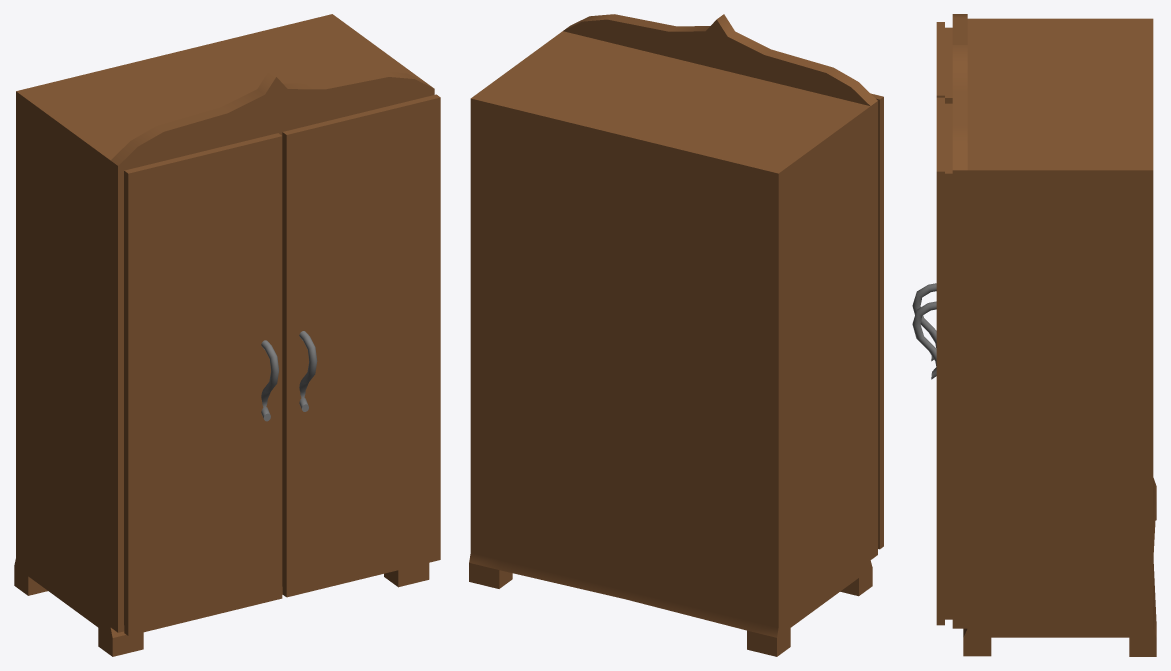
The model's file is Dresser.fbx.
3 renders of one model, left to right at view 1: azimuth 30°, elevation 25°; view 2: azimuth 150°, elevation 25°; view 3: azimuth 270°, elevation 25°, orthographic. The views are drawn at different scales.
Visible parts, largest first — view 1: simple_low_poly_dresser; view 2: simple_low_poly_dresser; view 3: simple_low_poly_dresser.
Part boxes in pixels (bbox=[...]): simple_low_poly_dresser: bbox=[14, 14, 440, 656]; simple_low_poly_dresser: bbox=[469, 14, 883, 656]; simple_low_poly_dresser: bbox=[912, 14, 1156, 656].
Bounding box in the file's own units: 768 × 1267 × 523.
